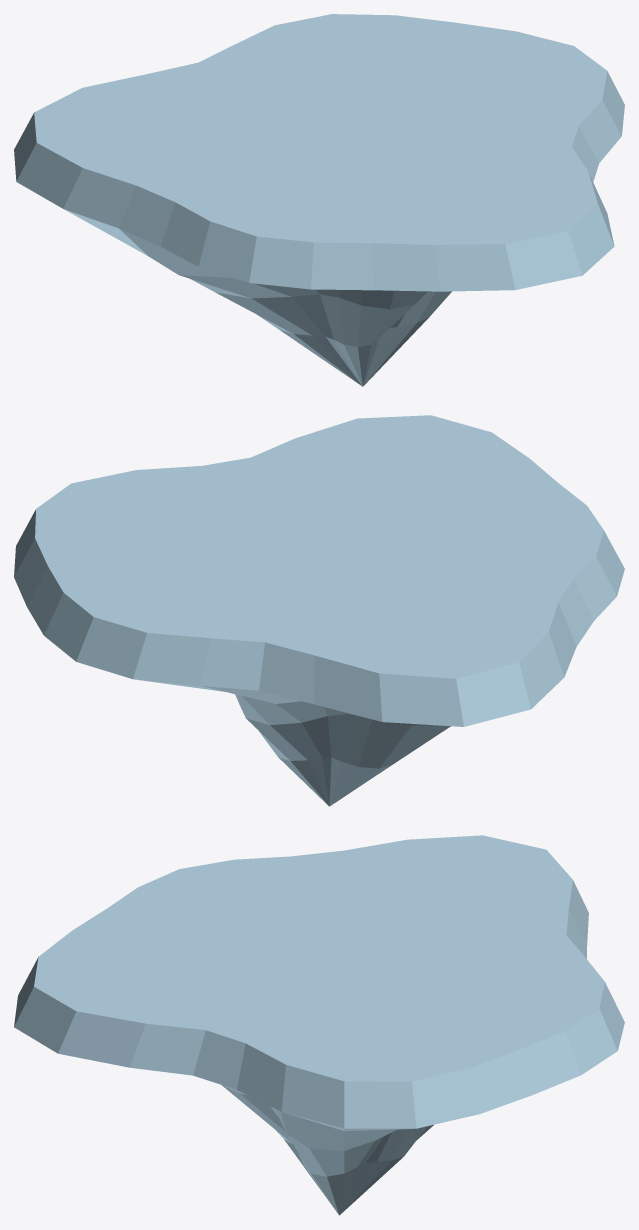
The model's file is floating_island_base.glb.
3 renders of one model, top to bottom at view 1: azimuth 30°, elevation 25°; view 2: azimuth 150°, elevation 25°; view 3: azimuth 270°, elevation 25°, orthographic. The views are drawn at different scales.
Parts seen in each view (by area): view 1: SkySanctuaryIsland; view 2: SkySanctuaryIsland; view 3: SkySanctuaryIsland.
Part boxes in pixels (<box>): SkySanctuaryIsland: <box>14,14,624,386</box>; SkySanctuaryIsland: <box>14,415,624,806</box>; SkySanctuaryIsland: <box>14,835,624,1215</box>.
Bounding box in the file's own units: 36.38 × 16.5 × 35.79.
1 material, 1 textured.
